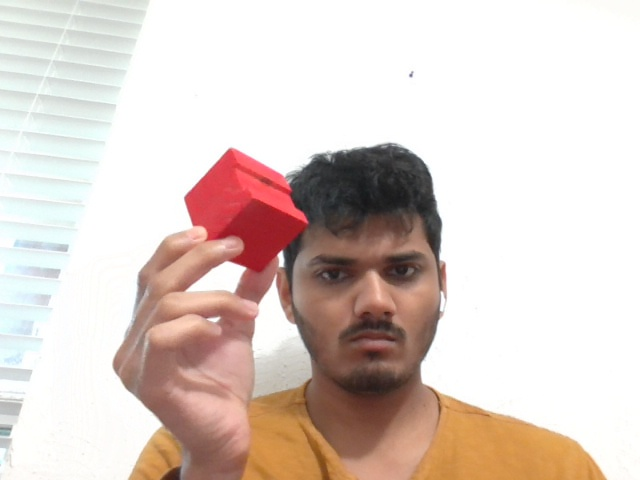RedBlock: (183, 146, 311, 275)
